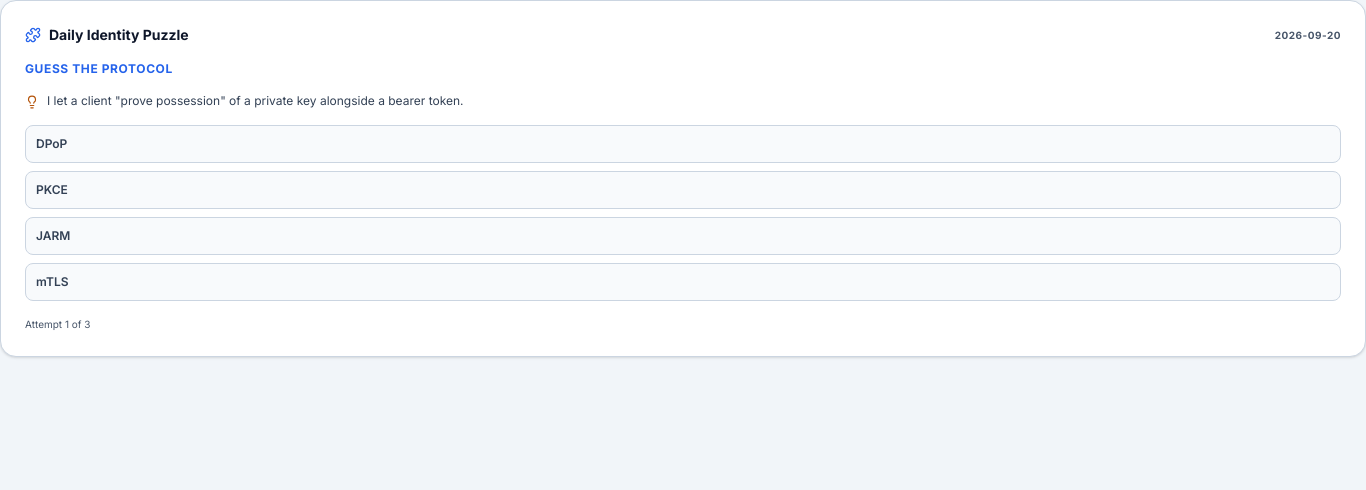
DailyPuzzleWidget › clicking the correct choice immediately shows the win state and explanation
This screenshot has width=1366, height=490.
Click the button "DPoP": coordinates (52, 144) [25, 125, 1341, 163]
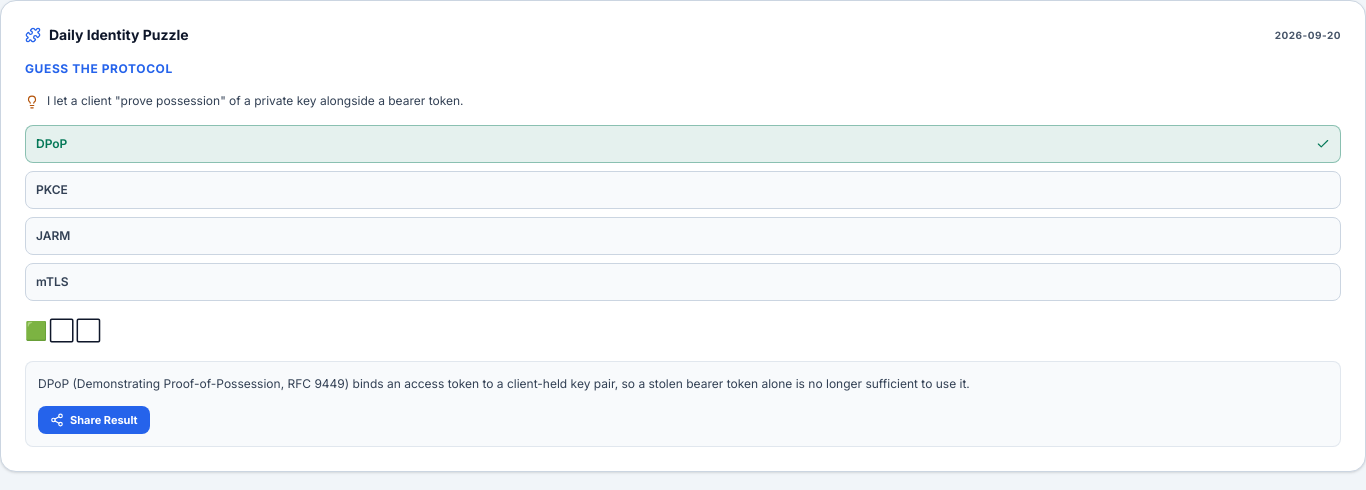
Expected: the text "DPoP (Demonstrating Proof-of-Possession, RFC 9449) binds an access token to a client-held key pair, so a stolen bearer t" is shown, [38, 376, 970, 391]
Expected: the button "Share Result" is shown, [38, 406, 150, 434]
